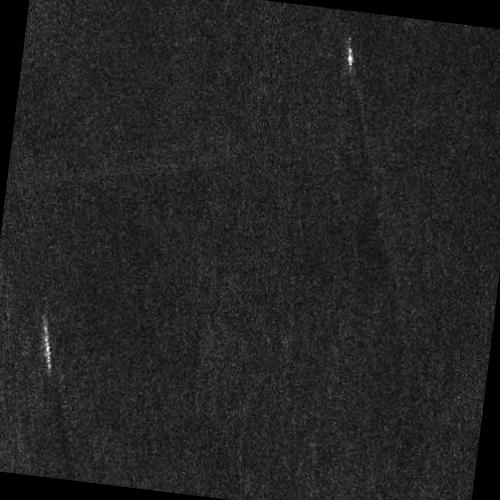ship: (43, 323, 51, 373), (347, 46, 353, 67)
